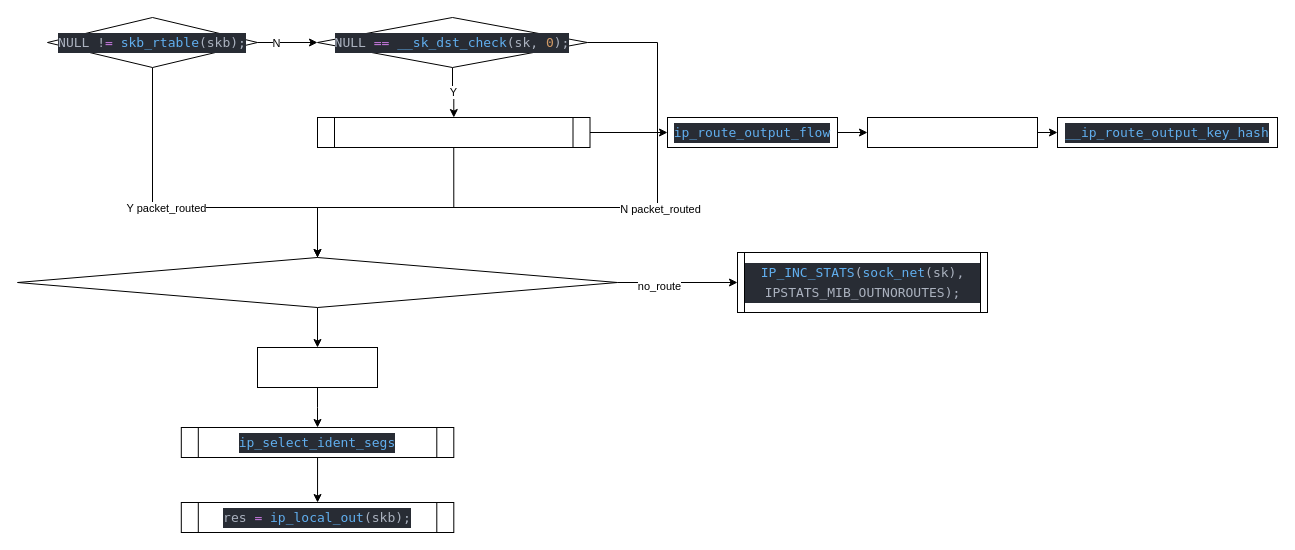
Image size: 1295x550. Some labels were removed from this diagram. The centre of each missing label's shape, as x and y in pixels:
"__ip_route_output_key" belongs at pixel 952 132.
"inet_opt && inet_opt -> opt . is_strictroute && rt -> rt_uses_gateway" belongs at pixel 317 282.
"rt = ip_route_output_ports" belongs at pixel 453 132.
"set ip headers" belongs at pixel 317 367.
